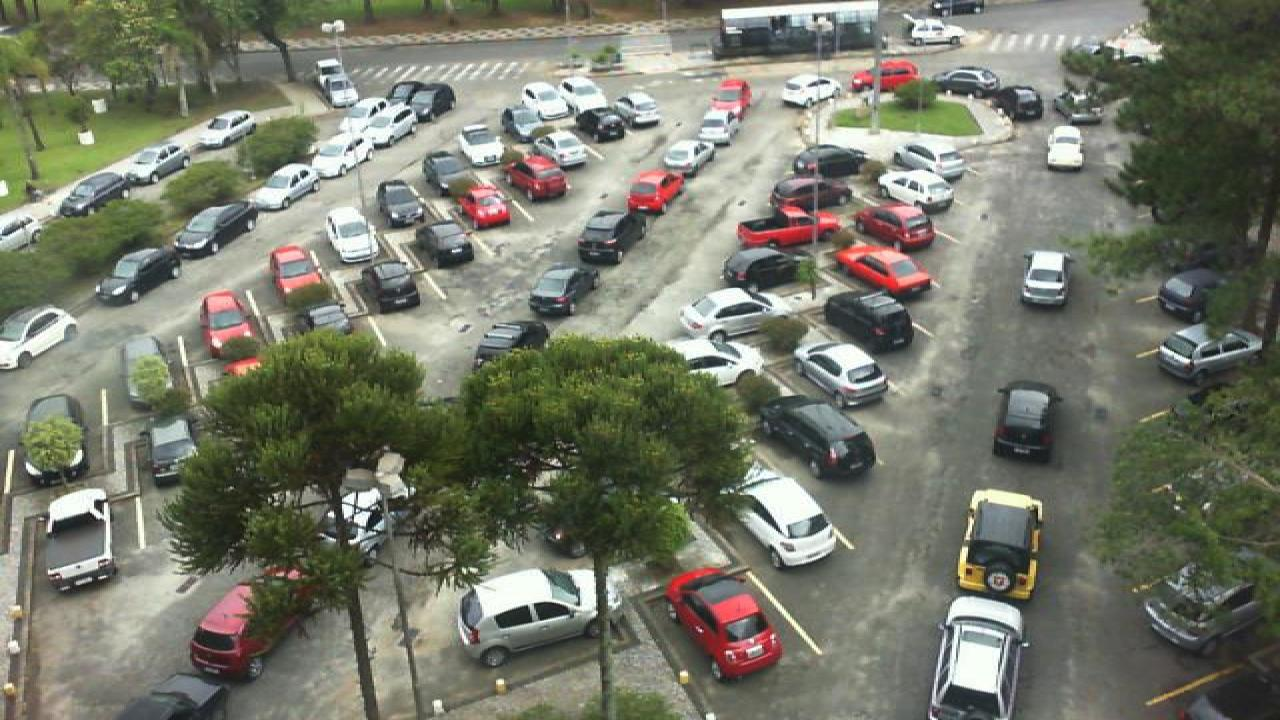Car: (664, 567, 784, 682), (454, 566, 602, 659), (188, 578, 316, 680), (926, 595, 1028, 720), (726, 461, 840, 568), (1142, 559, 1258, 656), (756, 395, 878, 480), (956, 489, 1044, 601), (38, 486, 120, 593), (1156, 320, 1264, 386), (16, 393, 90, 487), (794, 340, 892, 407), (676, 287, 790, 339), (822, 289, 914, 353), (992, 380, 1062, 464), (668, 341, 770, 396), (836, 243, 934, 298), (0, 305, 78, 372), (94, 248, 182, 306), (718, 245, 812, 296), (170, 200, 254, 256), (734, 204, 840, 248), (574, 209, 650, 266), (196, 290, 256, 361), (470, 321, 550, 370), (528, 263, 600, 317), (1158, 268, 1226, 324), (240, 162, 318, 210), (856, 204, 934, 250), (876, 168, 956, 212), (360, 261, 422, 313), (58, 171, 128, 215), (268, 244, 324, 299), (770, 173, 858, 208), (504, 154, 568, 202), (122, 138, 194, 180), (326, 206, 380, 262), (1020, 249, 1072, 306), (372, 178, 426, 232), (416, 223, 476, 271), (890, 142, 968, 178), (624, 170, 686, 215), (794, 145, 874, 179), (458, 180, 512, 228), (308, 140, 370, 180), (422, 150, 474, 196), (192, 109, 256, 146), (660, 136, 716, 178), (850, 57, 922, 89), (458, 122, 508, 166), (350, 118, 404, 158), (780, 73, 838, 109), (536, 130, 590, 166), (1044, 125, 1086, 170), (940, 66, 1000, 97), (408, 87, 458, 124), (696, 108, 744, 145), (576, 109, 628, 143), (520, 82, 570, 117), (1054, 90, 1104, 125), (998, 84, 1044, 121), (558, 76, 608, 110), (616, 90, 660, 126), (710, 78, 752, 114), (390, 82, 436, 114), (320, 74, 358, 108)
